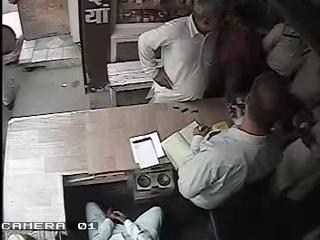Normal: (175, 71, 304, 240), (137, 0, 227, 104), (85, 202, 163, 240)
